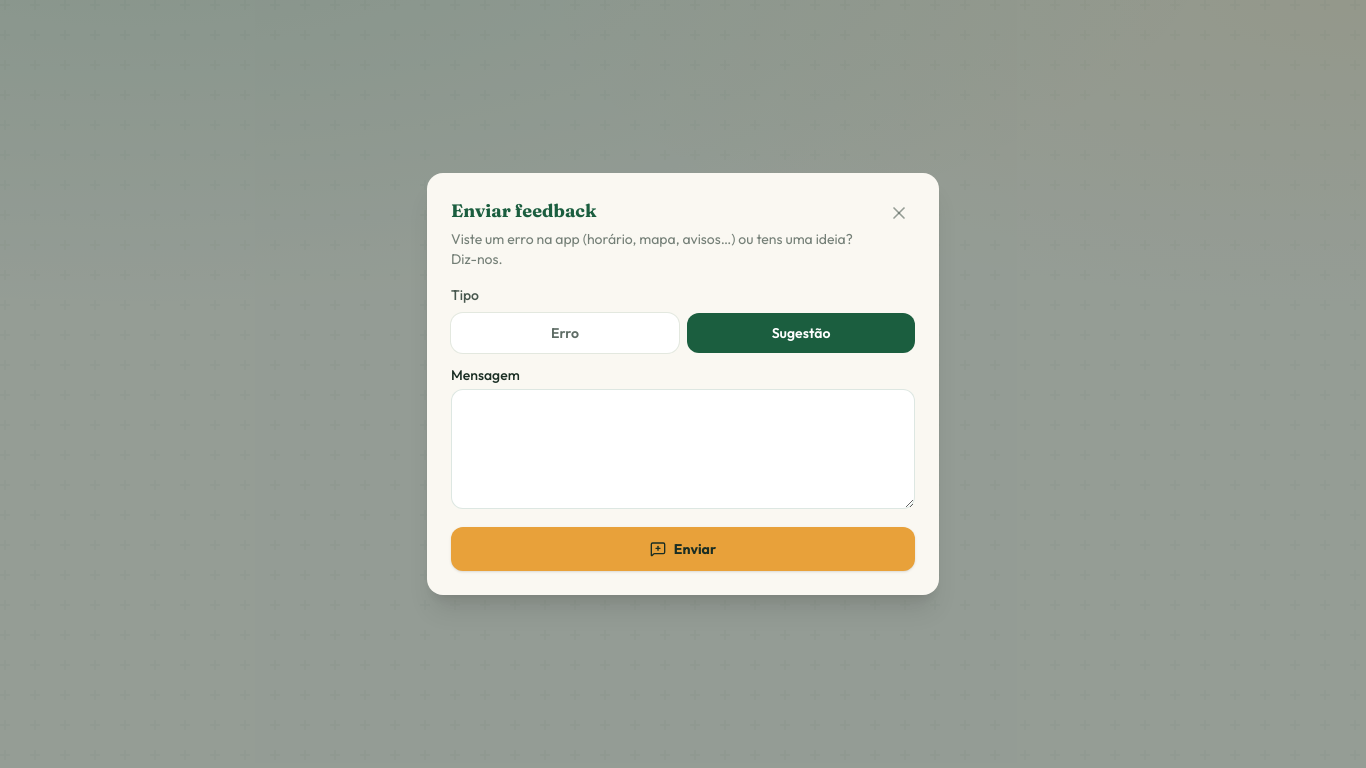
FeedbackForm spam guards › shows rate-limit message when API rejects
The width and height of the screenshot is (1366, 768).
Type "mensagem válida suficiente" into the text box labelled "Mensagem" at (683, 449), box [451,389,915,509]
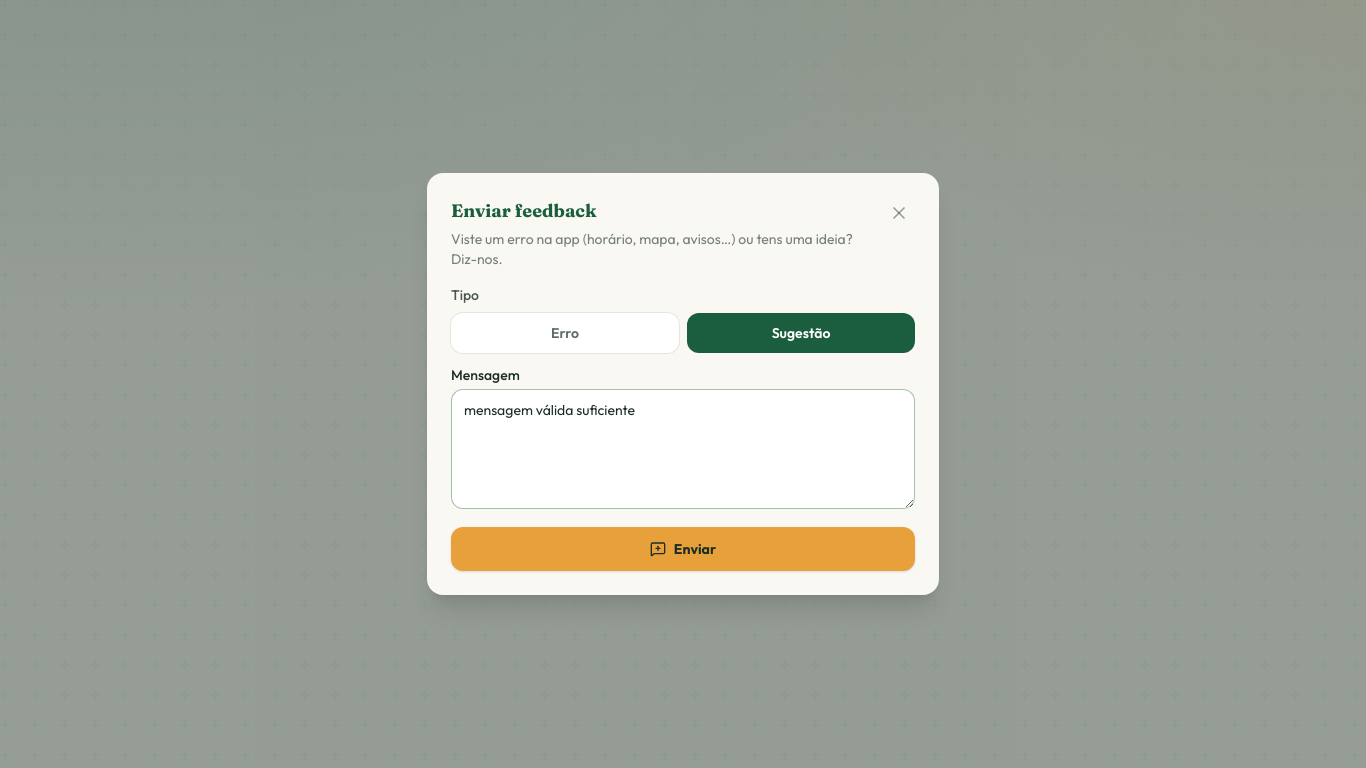
Click the button "Enviar" at (683, 549), box [451,527,915,571]
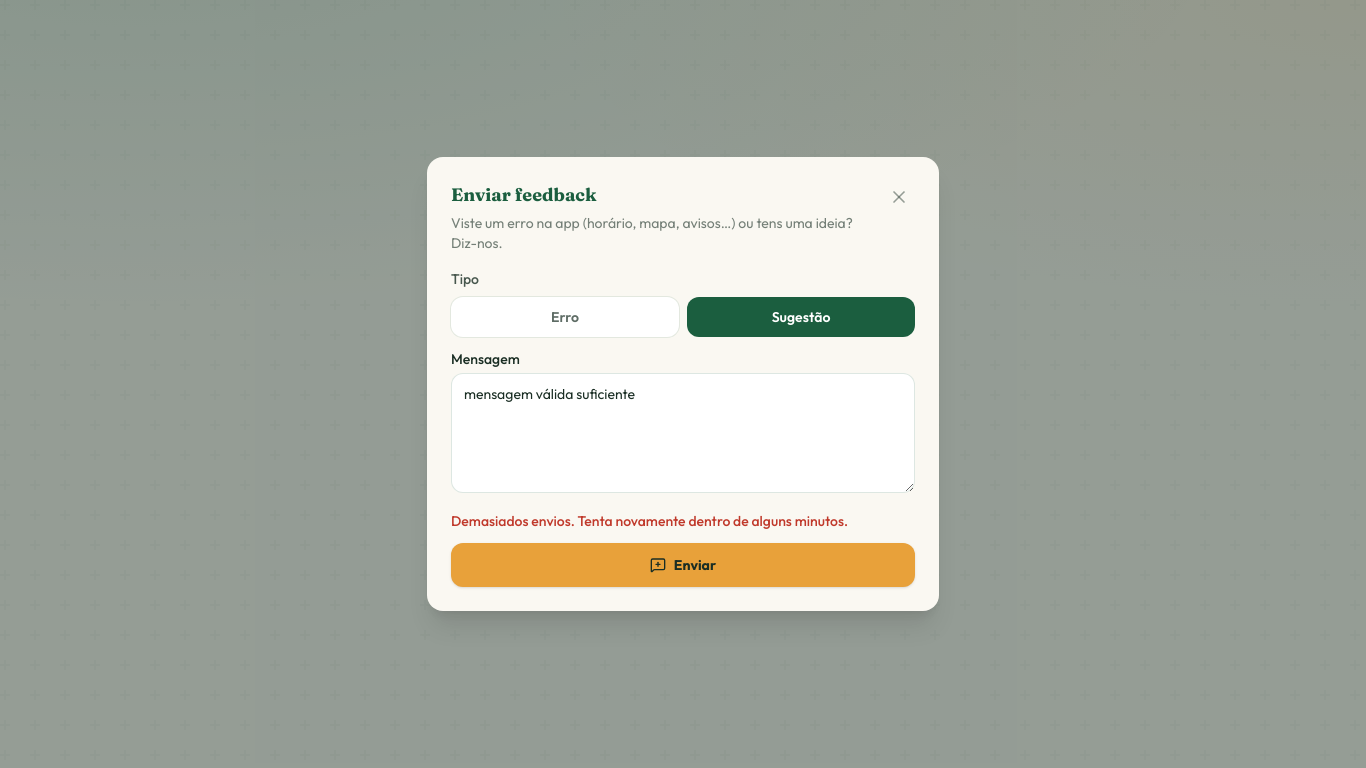
Check: the message shows "Demasiados envios", box [451,512,848,530]
